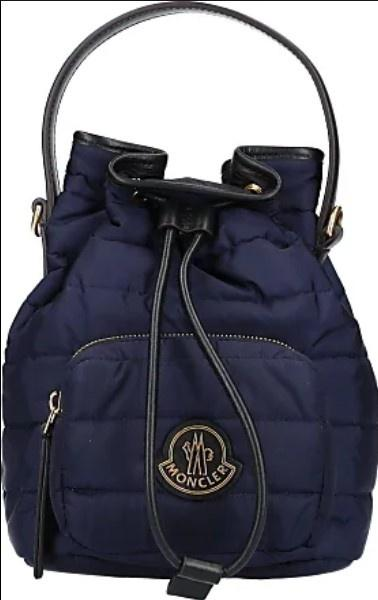MONCLER: (153, 419, 243, 501)
